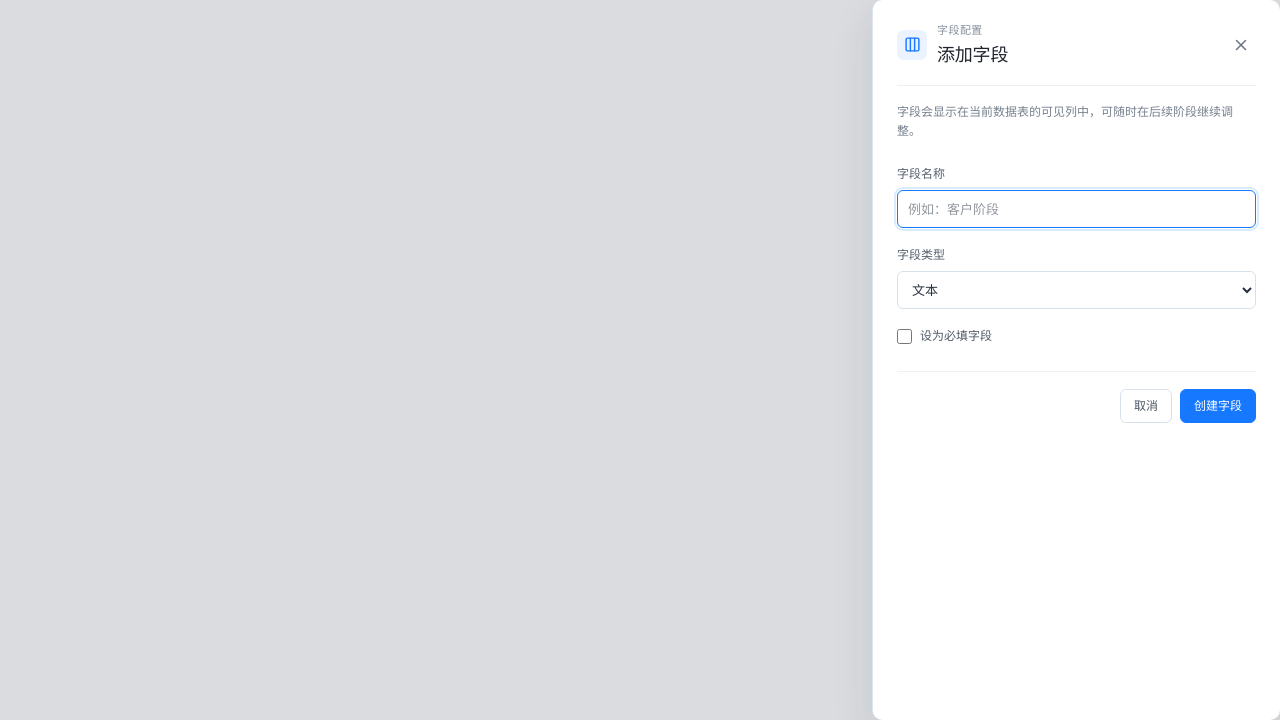
renders a focused field drawer, validates its visible inputs, and exposes choices only when needed
Expected: the dialog "添加字段" is shown, [872,0,1279,719]
Click the button "创建字段".
click(1218, 406)  # box [1180,389,1256,423]
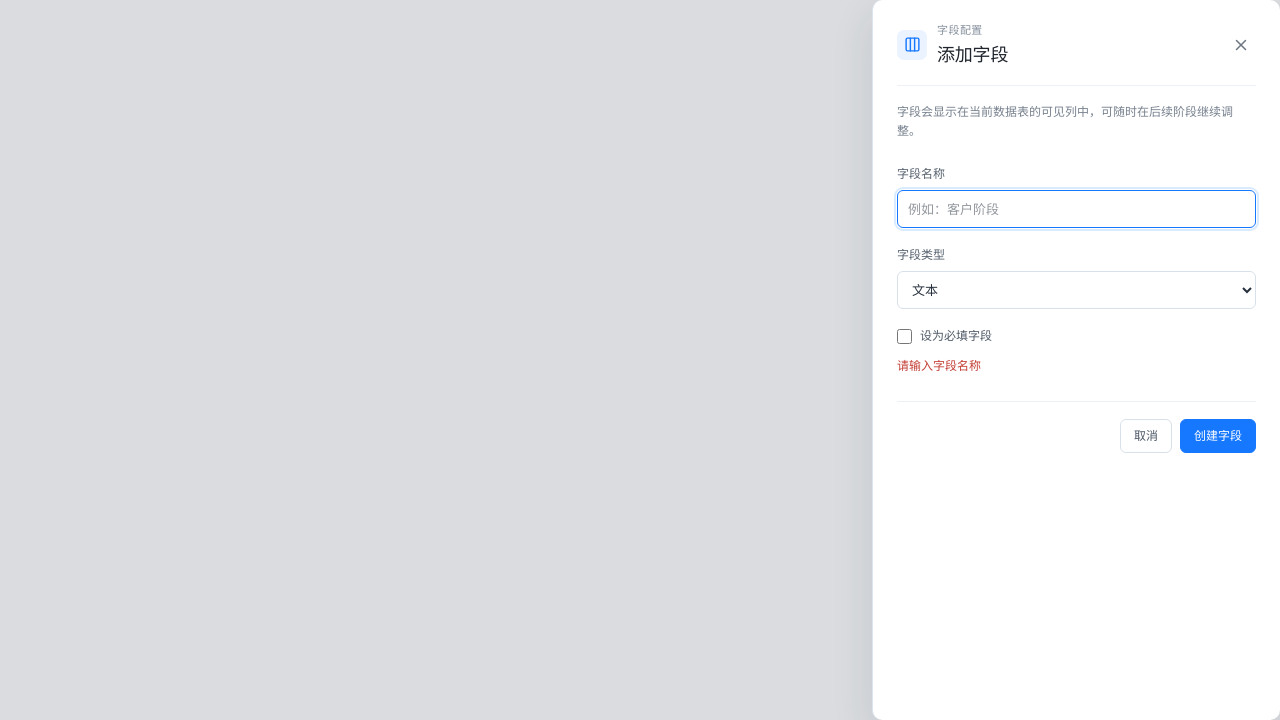
Expected: the text "请输入字段名称" is shown, [897,357,981,374]
Select "多选" in the dropdown labelled "字段类型" at (1076, 290), box [897,271,1256,309]
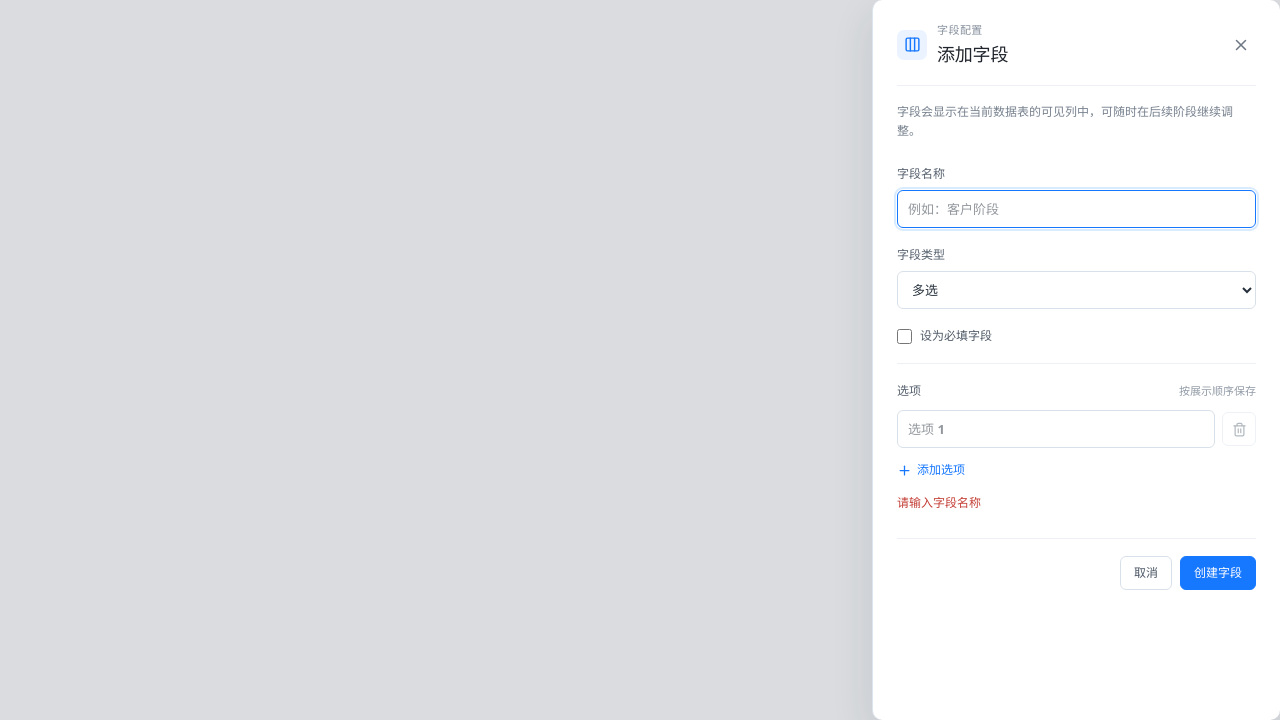
Expected: the button "添加选项" is shown, [897,458,965,482]
Expected: the field labelled "选项 1" is shown, [897,410,1215,448]
